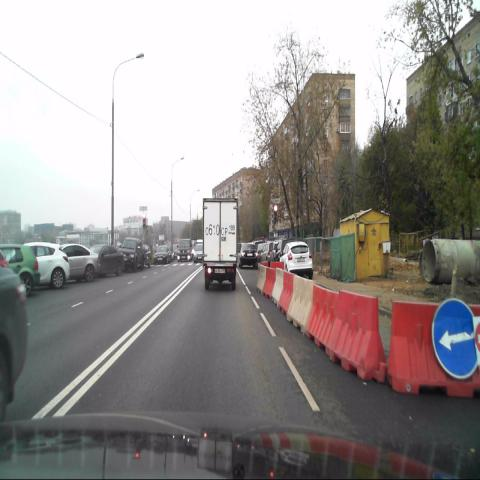4_1_2_2: (433, 299, 477, 381)
